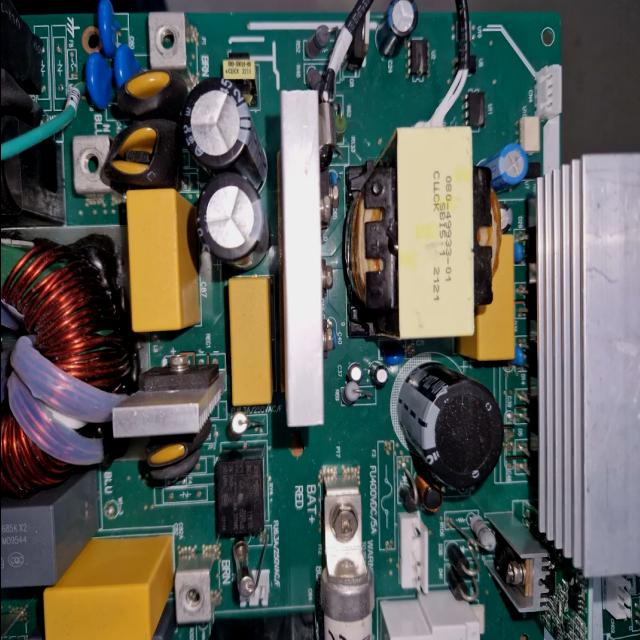A: (0, 246, 122, 499)
B: (320, 471, 372, 640)
C: (397, 364, 502, 487), (180, 77, 252, 169), (196, 173, 264, 269)
Wire: (0, 82, 86, 161), (322, 0, 372, 102), (454, 0, 468, 71)
